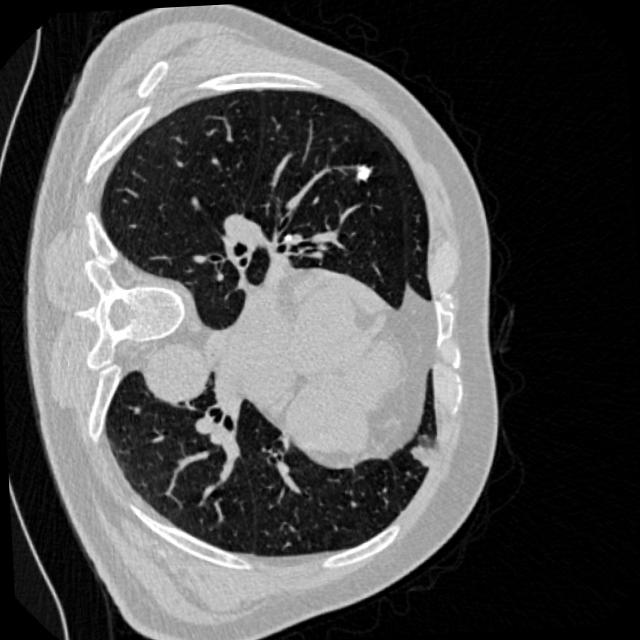nodule: (348, 156, 380, 188)
